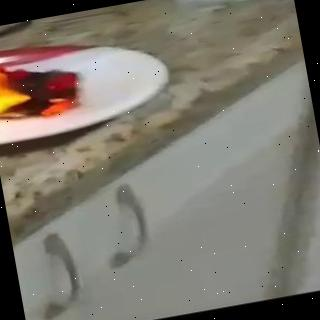fire: (0, 22, 88, 129)
